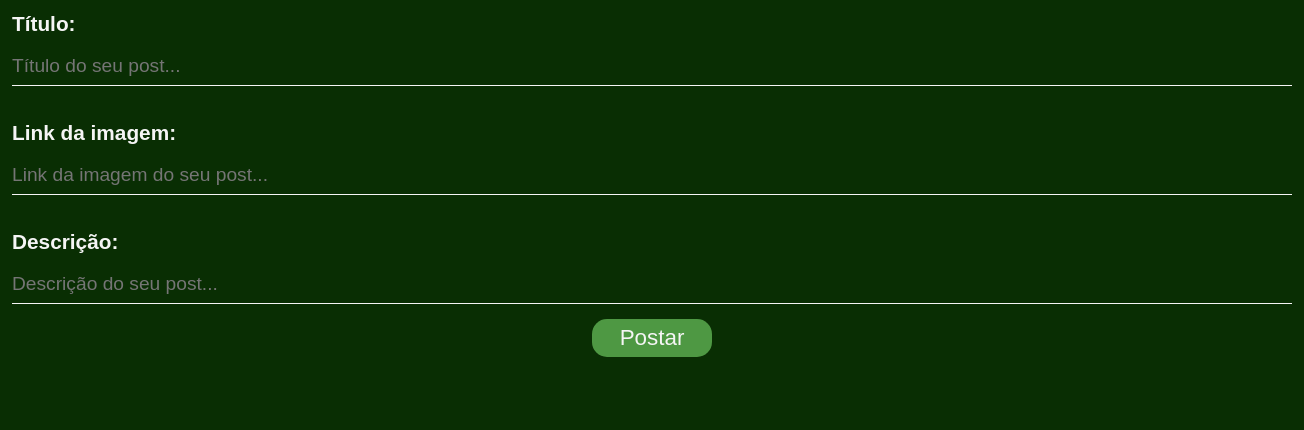
Test: Form Component › should display min lenght error for title and description
Type "as" into the field labelled "Título:" at (652, 66), box [12, 46, 1292, 86]
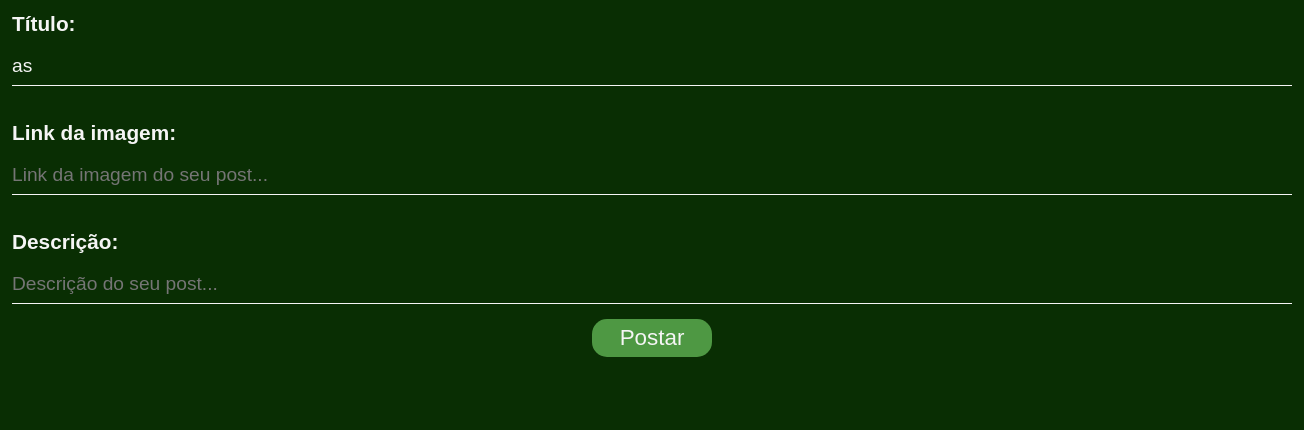
Type "https://google.com/ney.jpg" into the field labelled "Link da imagem:" at (652, 175), box [12, 155, 1292, 195]
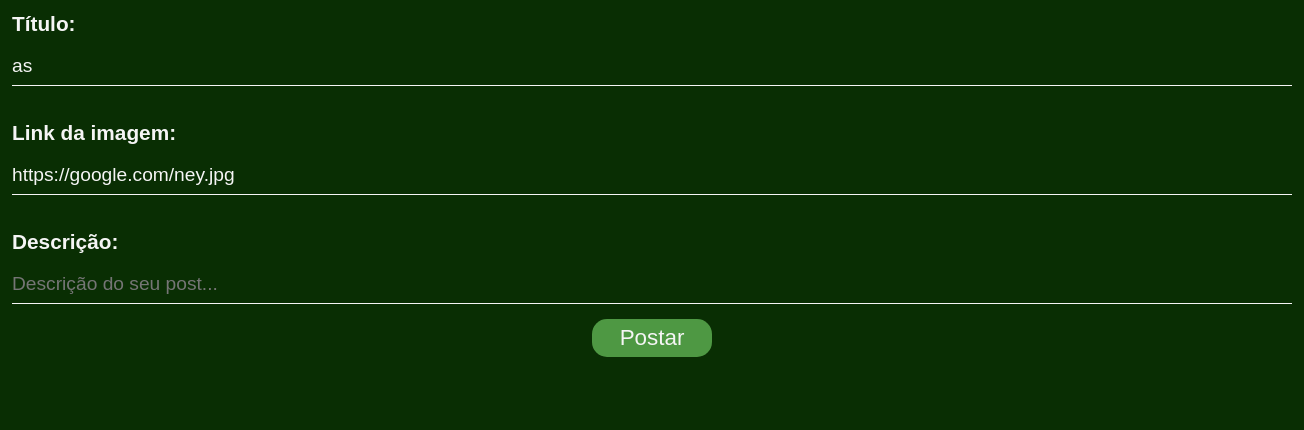
Type "as" into the field labelled "Descrição:" at (652, 284), box [12, 264, 1292, 304]
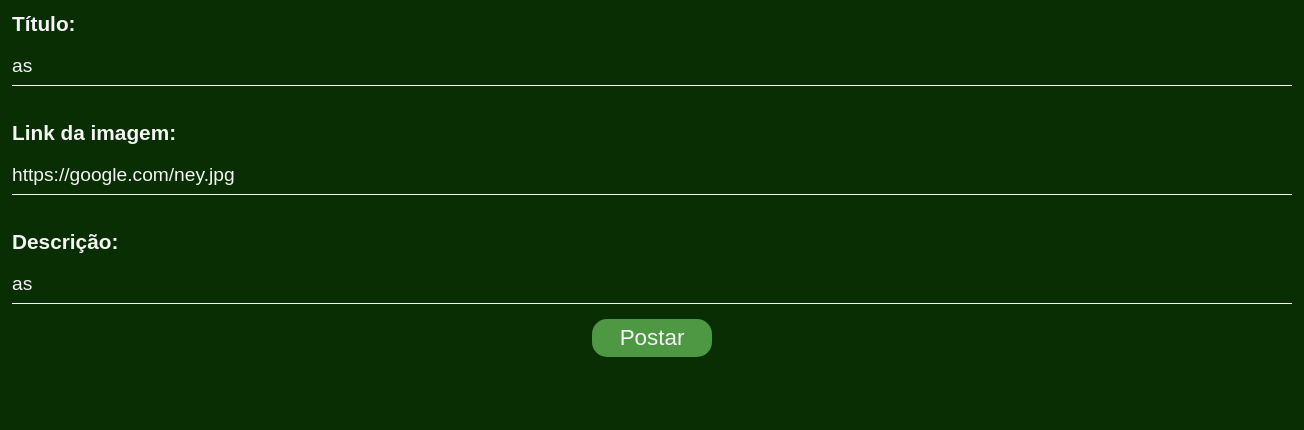
Click the button "Postar" at (652, 338), box [592, 319, 712, 357]
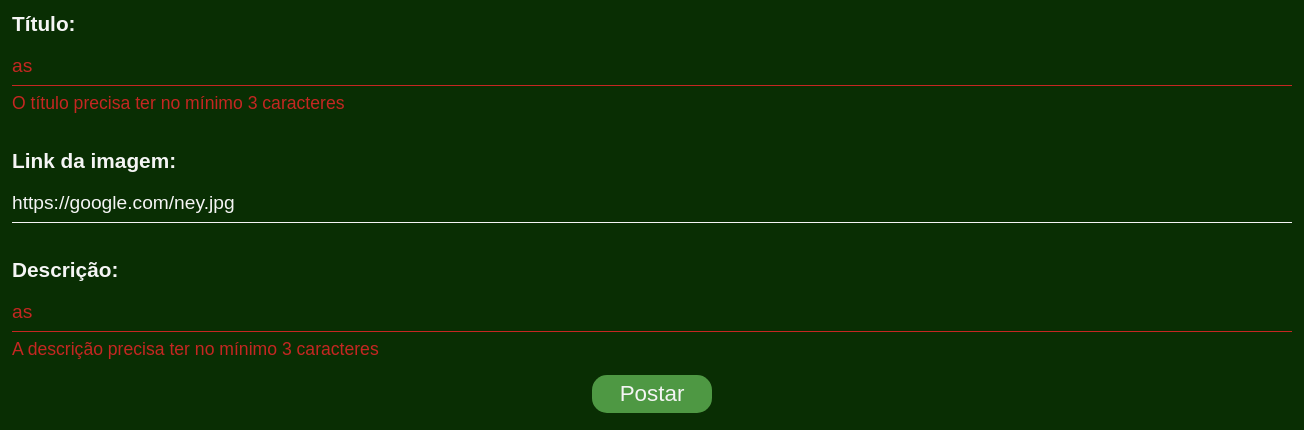
expect the number of elements with test id "error_form" is 2: met, box [12, 93, 344, 113]; [12, 339, 379, 359]
expect the text "O título precisa ter no mínimo 3 caracteres" is shown: met, box [12, 93, 344, 113]
expect the text "A descrição precisa ter no mínimo 3 caracteres" is shown: met, box [12, 339, 379, 359]
